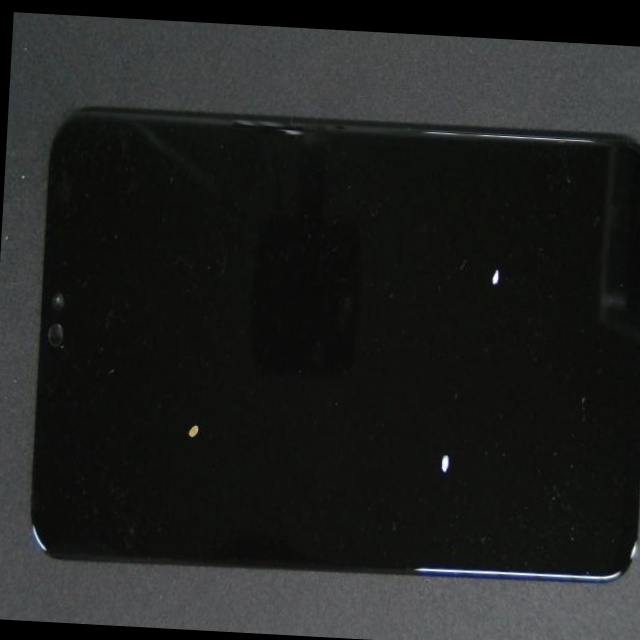stain: (237, 211, 640, 640), (100, 222, 325, 616), (255, 174, 640, 385)
